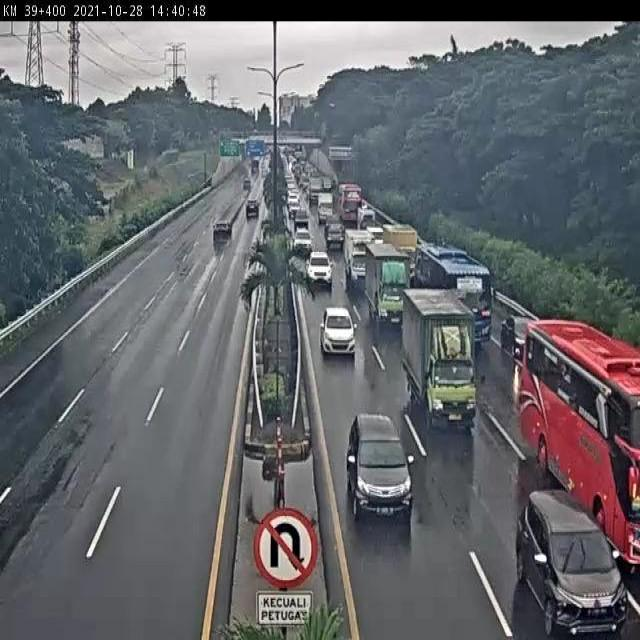big bus: (525, 319, 640, 557), (412, 241, 493, 344)
car: (517, 485, 630, 635), (345, 411, 416, 521), (320, 306, 357, 358), (500, 312, 536, 359), (305, 249, 335, 288)
mid truck: (400, 288, 478, 428), (365, 240, 411, 328), (344, 228, 377, 289)
